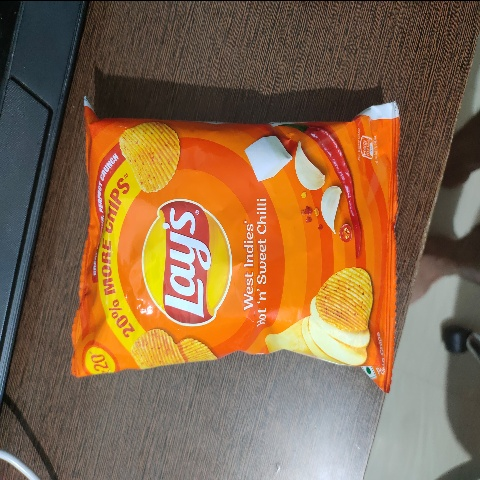lays_orange_pack: (47, 70, 398, 422)
